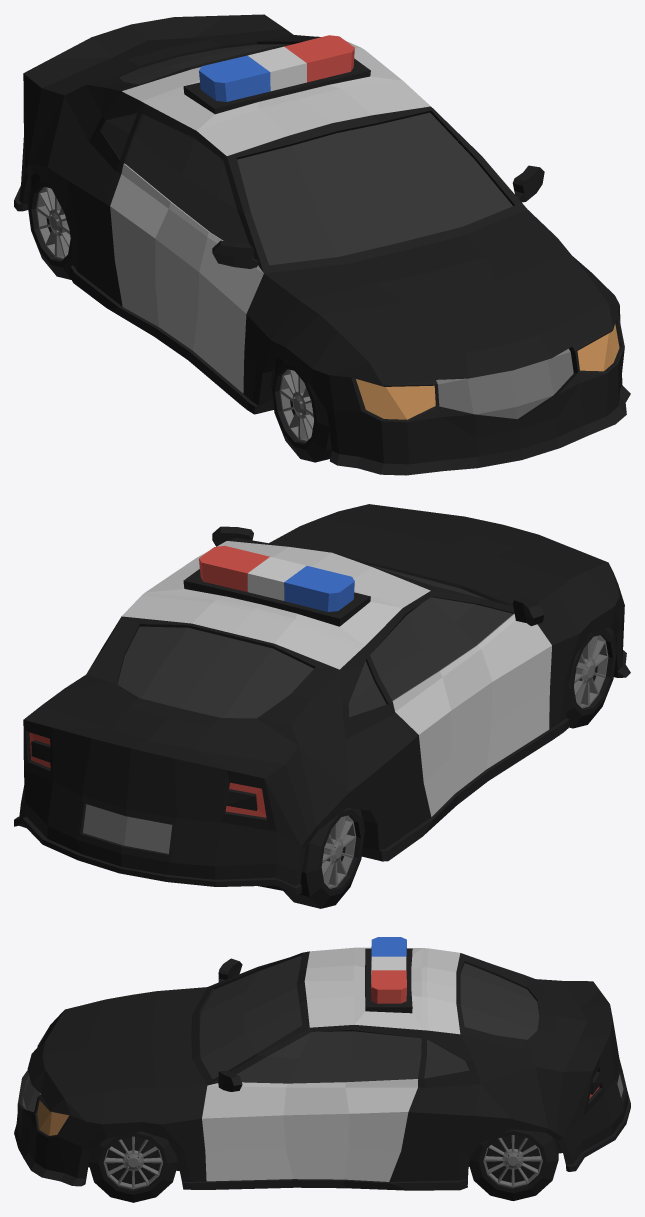
Rendered from result.gltf.
The picture shows the model from 3 angles, top to bottom: view 1: azimuth 30°, elevation 25°; view 2: azimuth 150°, elevation 25°; view 3: azimuth 270°, elevation 25°; orthographic projection. The views are drawn at different scales.
Visible parts, largest first — view 1: Cop_Cube.001, Cop_FrontRightWheel_Cylinder.012, Cop_BackWheels_Cylinder.001; view 2: Cop_Cube.001, Cop_BackWheels_Cylinder.001, Cop_FrontRightWheel_Cylinder.012; view 3: Cop_Cube.001, Cop_BackWheels_Cylinder.001, Cop_FrontLeftWheel_Cylinder.011.
Part boxes in pixels (left/top/right/bottom): Cop_Cube.001: left=14, top=14, right=630, bottom=475; Cop_FrontRightWheel_Cylinder.012: left=270, top=358, right=331, bottom=462; Cop_BackWheels_Cylinder.001: left=27, top=173, right=73, bottom=279; Cop_Cube.001: left=14, top=504, right=630, bottom=895; Cop_BackWheels_Cylinder.001: left=283, top=807, right=364, bottom=908; Cop_FrontRightWheel_Cylinder.012: left=566, top=627, right=617, bottom=728; Cop_Cube.001: left=14, top=937, right=630, bottom=1190; Cop_BackWheels_Cylinder.001: left=469, top=1129, right=558, bottom=1200; Cop_FrontLeftWheel_Cylinder.011: left=88, top=1131, right=178, bottom=1202.
Size of the model in its own units: 1.78 by 1.24 by 3.73.
